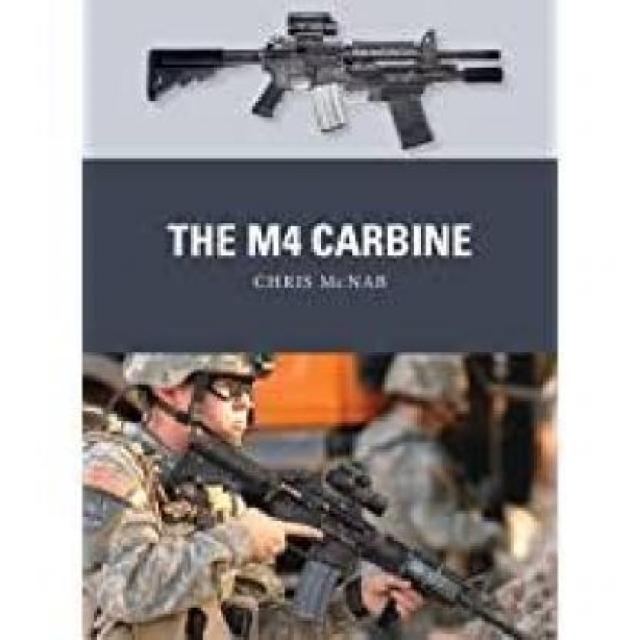weapon: (161, 407, 525, 633), (139, 1, 506, 154)
